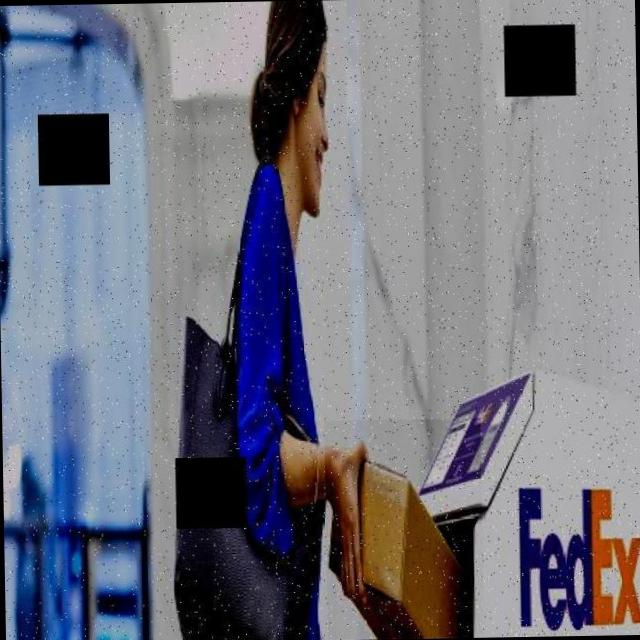box: (323, 418, 484, 640)
